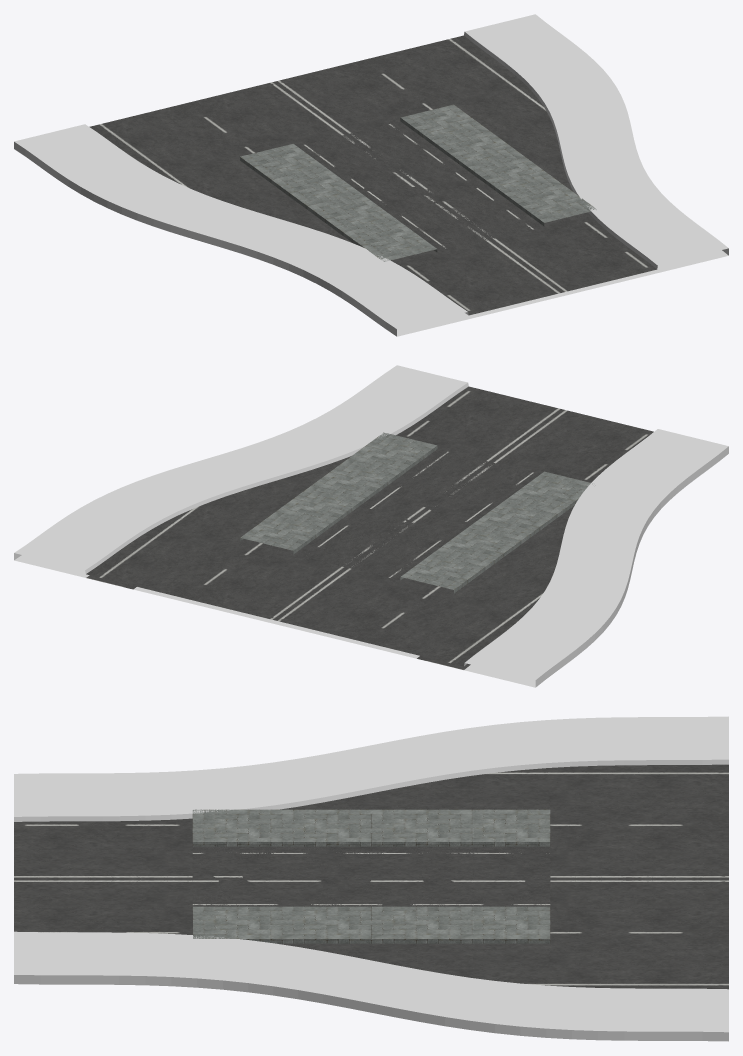
The model's file is Transition 2-4 - Scaled.fbx.
3 views of the same model, one above another, from view 1: azimuth 30°, elevation 25°; view 2: azimuth 150°, elevation 25°; view 3: azimuth 270°, elevation 25° (orthographic). The views are drawn at different scales.
Parts seen in each view (by area): view 1: Plane.002, Plane; view 2: Plane.002, Plane; view 3: Plane.002, Plane.
Boxes of the visible parts, x1,y1,x2,y2 form: Plane.002: (14, 14, 728, 336); Plane: (240, 104, 596, 261); Plane.002: (14, 365, 728, 687); Plane: (240, 432, 595, 593); Plane.002: (14, 716, 728, 1041); Plane: (192, 809, 550, 943).
Size of the model in its own units: 2926 by 40 by 2800.
